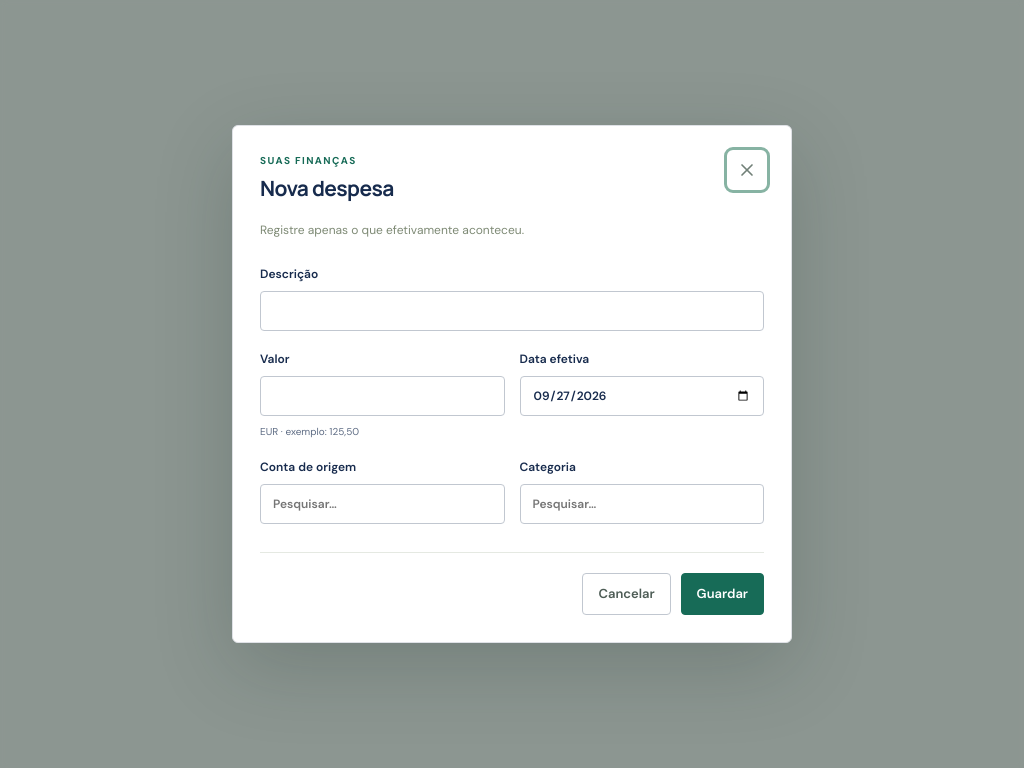
Test: financial UI flows › groups account choices by how the money can be used
Step 1. Click the dropdown labelled "Conta de origem" → (382, 504), box [260,484,504,524]
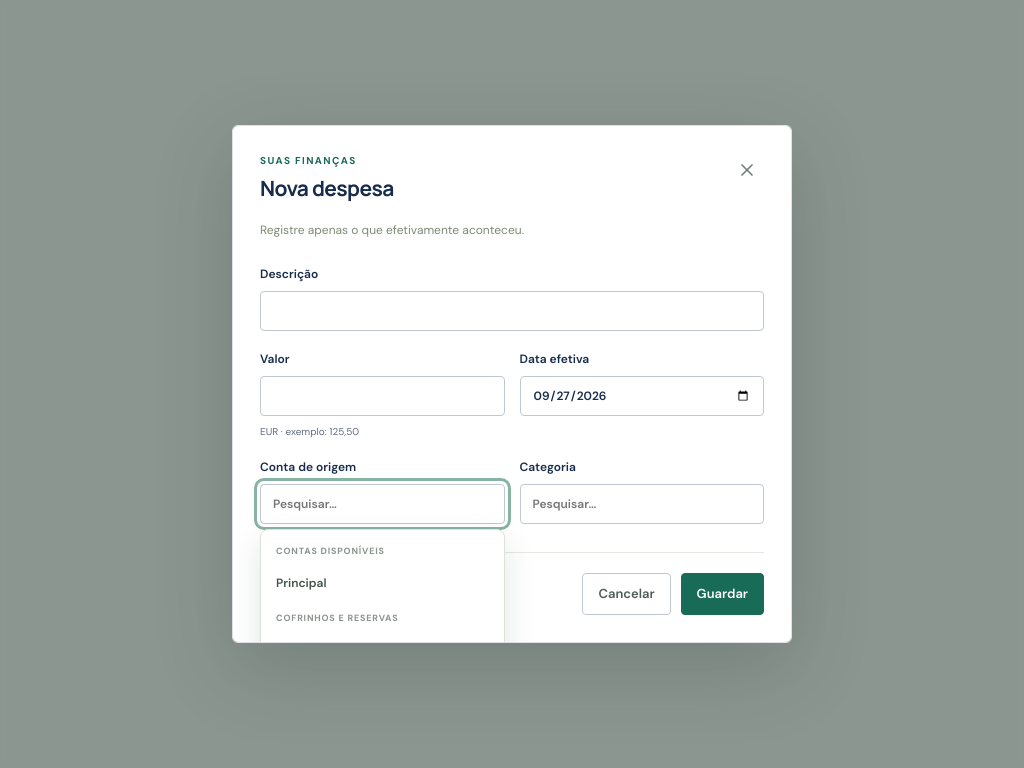
Now the text "Contas disponíveis" is shown, box [276,546,385,558]
Now the text "Cofrinhos e reservas" is shown, box [276,612,398,624]
